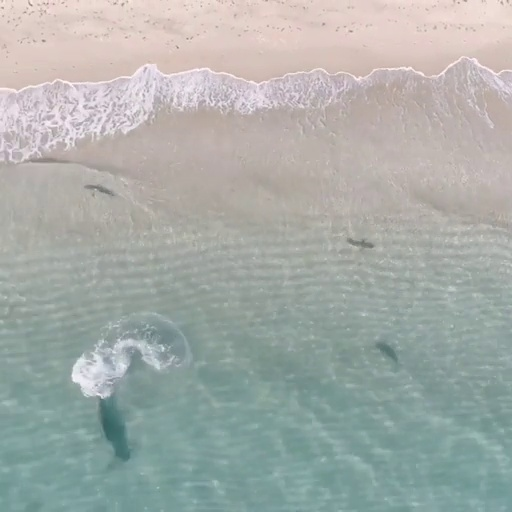shark: (77, 366, 135, 469)
